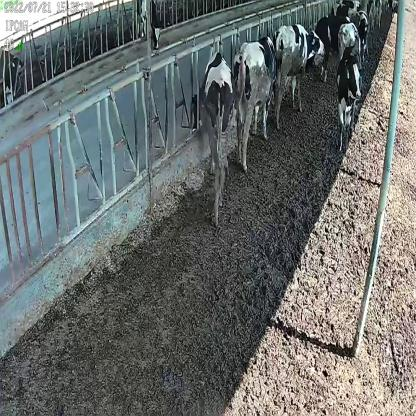cow: (190, 49, 236, 226), (235, 32, 279, 170), (274, 15, 325, 123), (335, 48, 361, 152)
